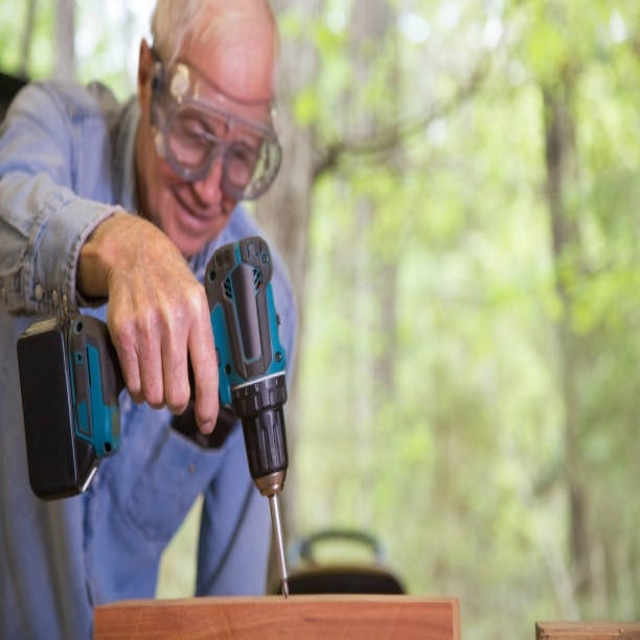Gafas: (147, 45, 282, 202)
Sin_guantes: (100, 217, 224, 430)
Sin_mascara: (164, 182, 215, 251)
